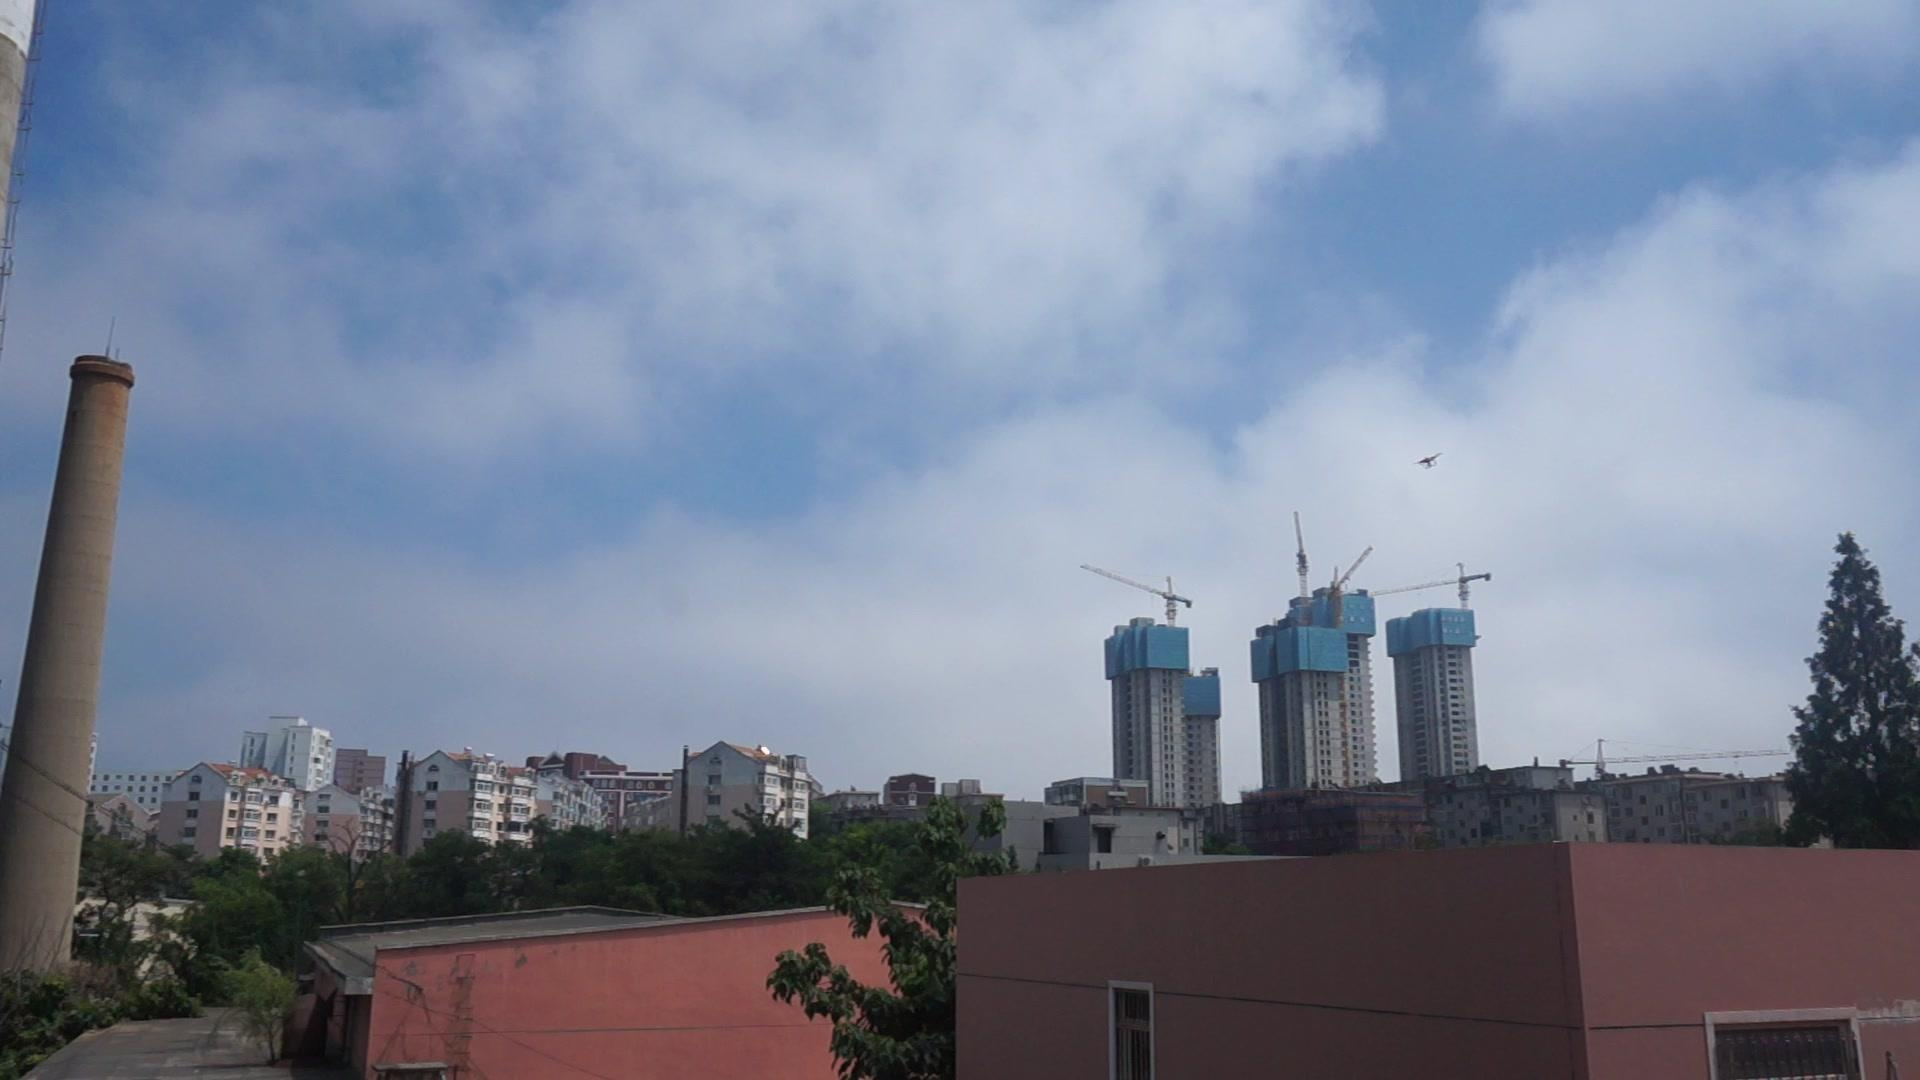UAV: (1414, 454, 1445, 471)
